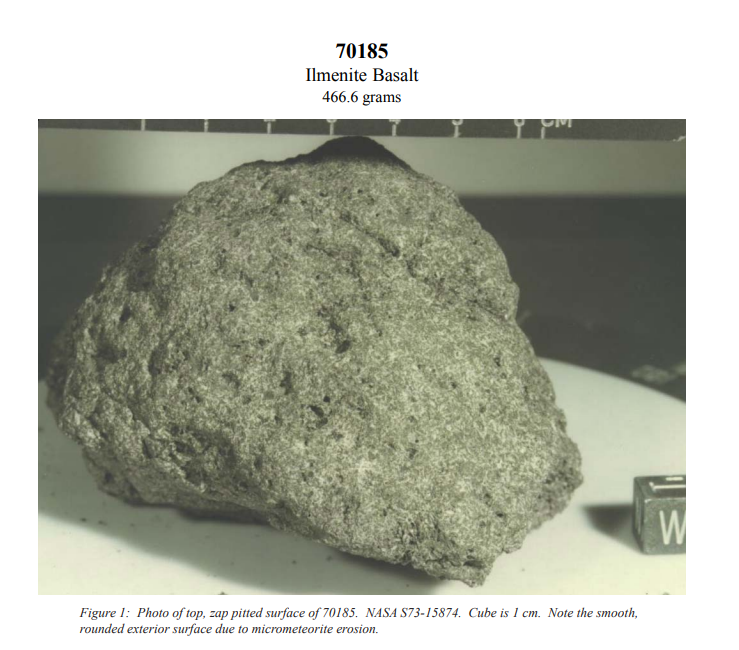Basalt: (91, 153, 571, 576), (203, 225, 474, 529)
